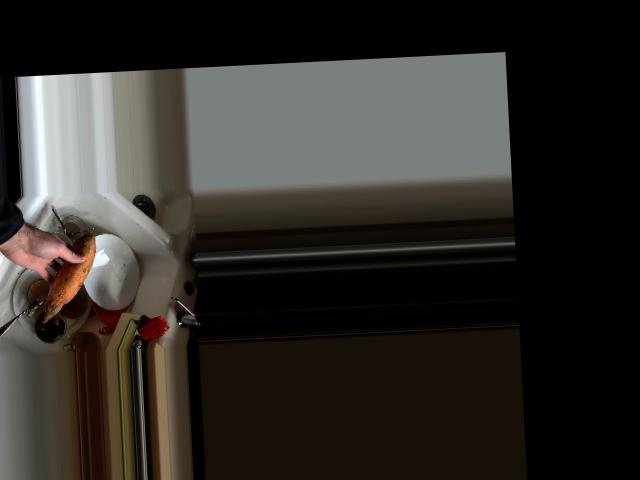sweet_potato: (35, 232, 102, 321)
